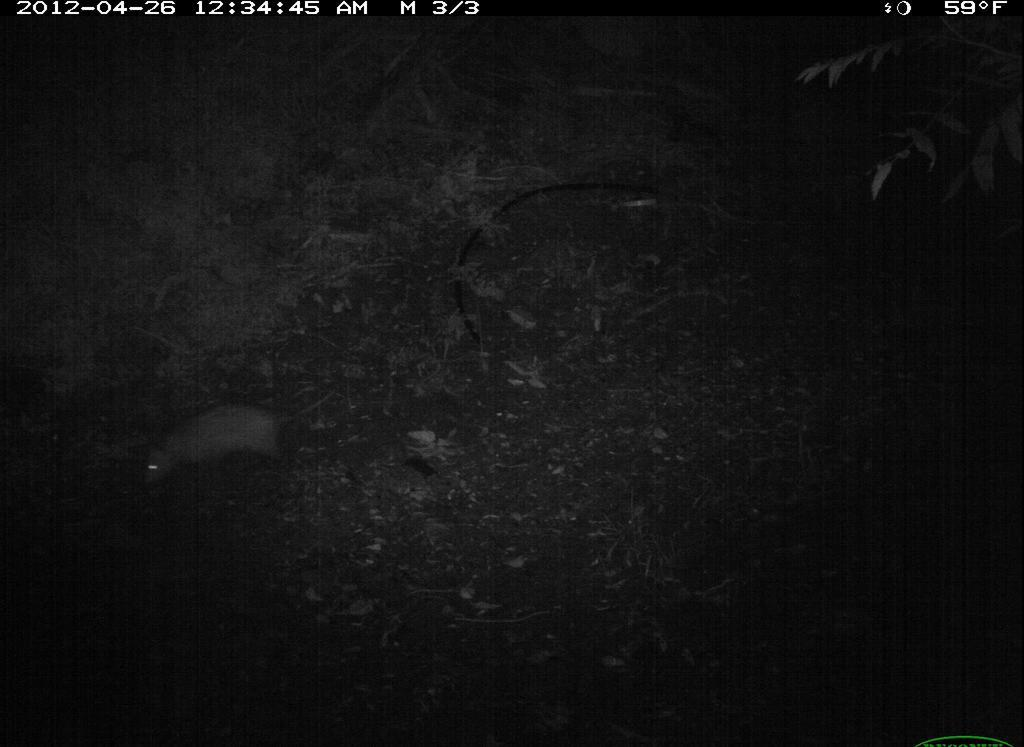opossum: (137, 381, 354, 505)
